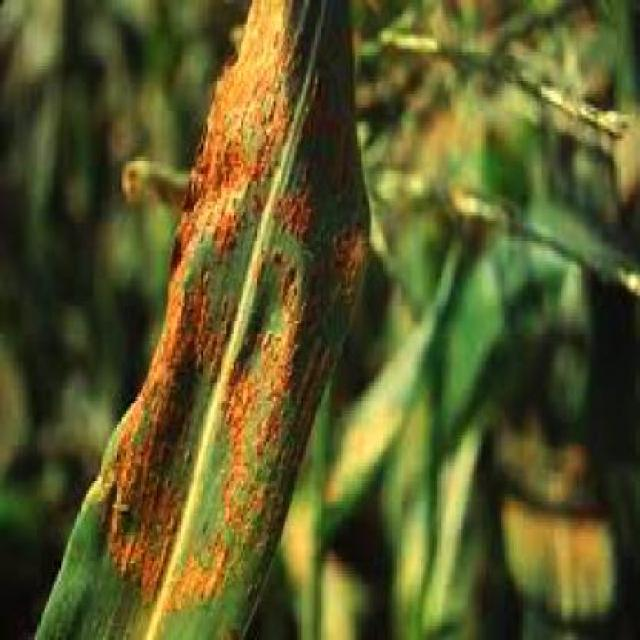Corn_Rust: (71, 0, 391, 615)
